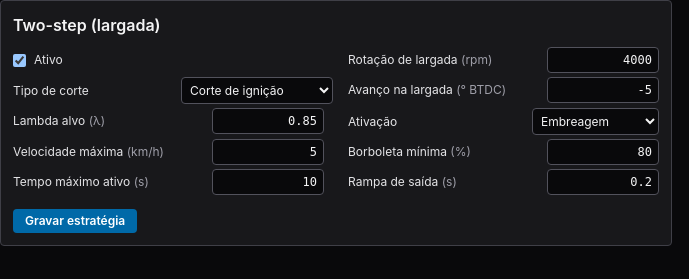
Test case: formulários por subtipo › erros 422 do servidor aparecem por campo (EC-13)
Click the button "Gravar estratégia".
click(75, 221)  # box [13,209,137,233]
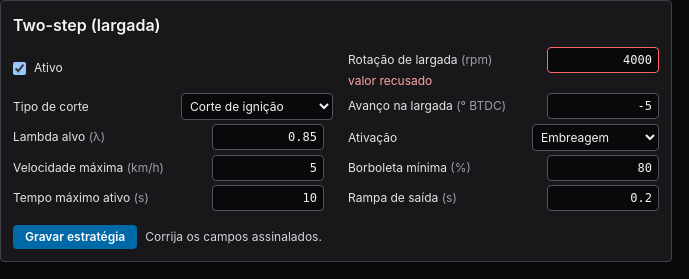
expect the text "valor recusado" is shown: met, box [348,73,432,88]
